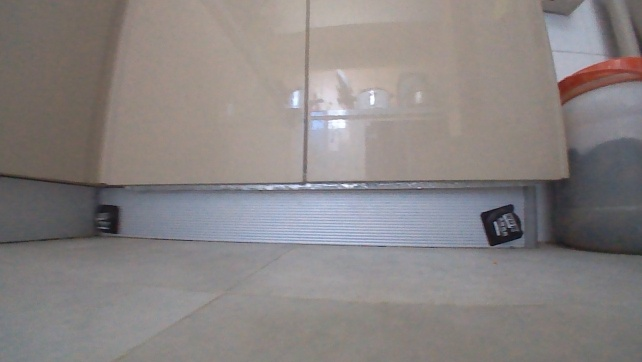cupboard1: (0, 0, 574, 251)
